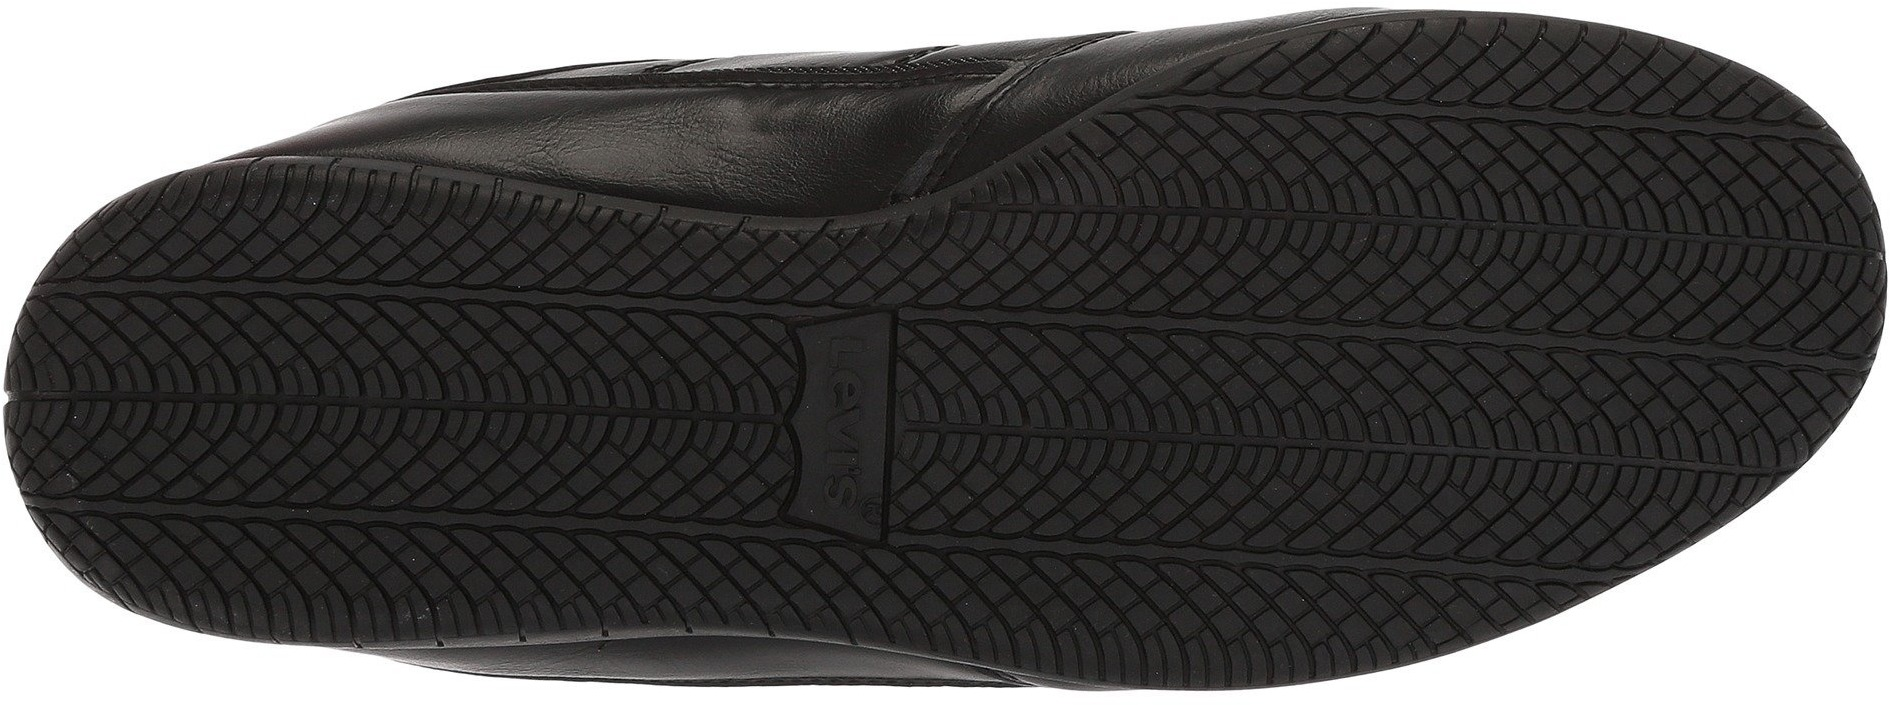quad: (945, 302, 1323, 651), (1349, 118, 1648, 425)
text: (812, 333, 897, 421), (802, 442, 890, 524)
